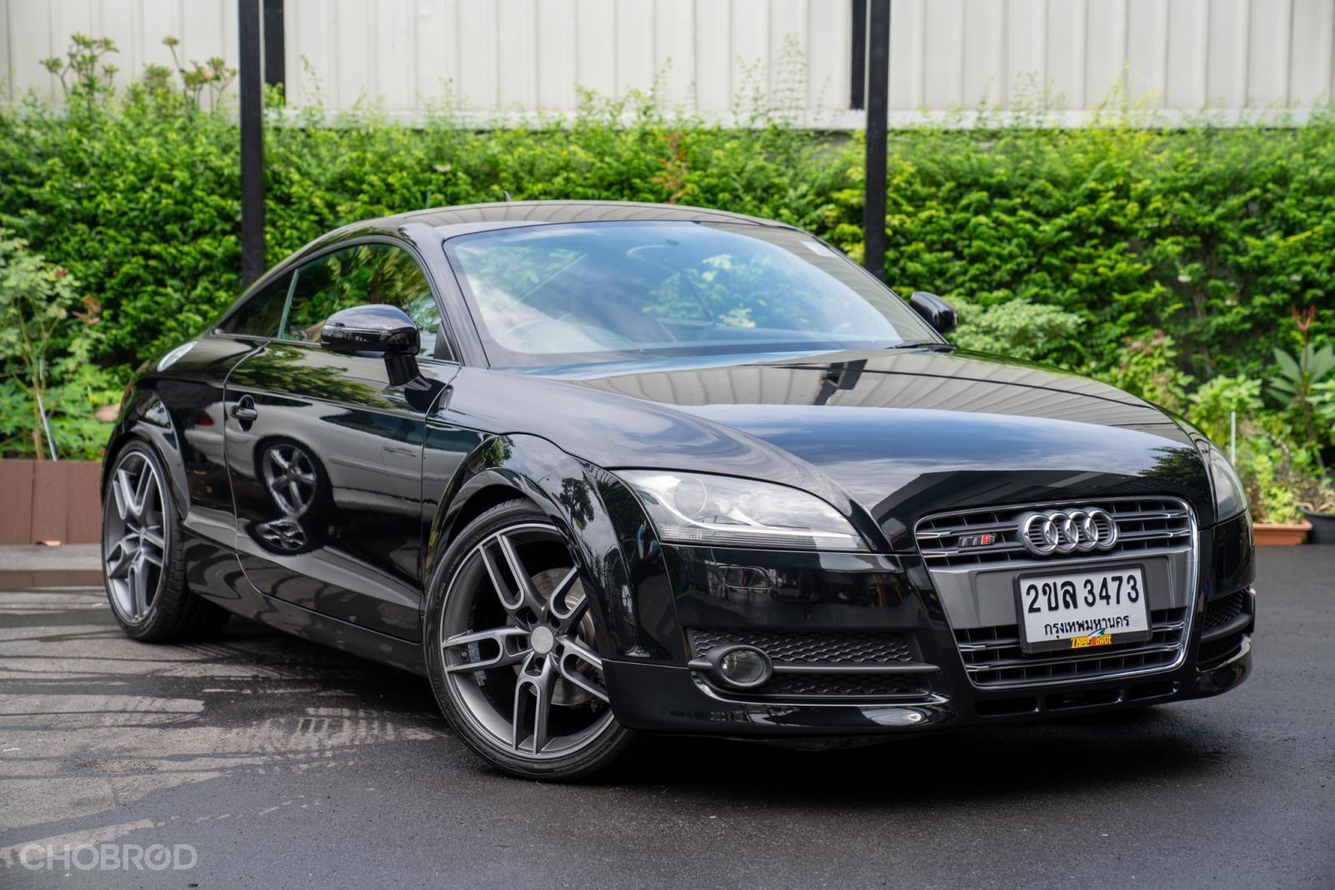license-plate: (1010, 562, 1159, 657)
